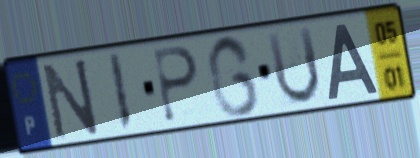A: (325, 21, 381, 102)
G: (204, 32, 262, 120)
I: (105, 50, 135, 134)
N: (39, 55, 102, 144)
P: (151, 44, 201, 126)
U: (263, 23, 324, 109)
